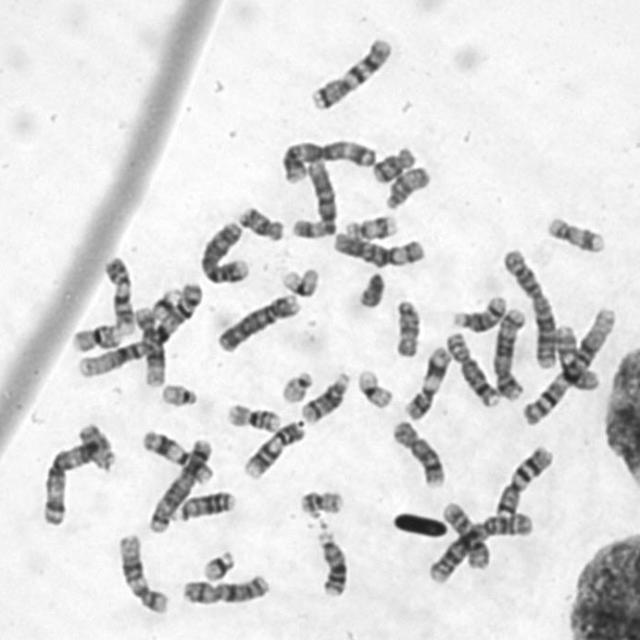A1: (516, 306, 620, 432), (77, 280, 205, 380)
A2: (428, 512, 533, 586), (503, 248, 557, 370)
A3: (40, 438, 99, 530), (280, 139, 378, 186)
B4: (213, 292, 302, 356), (197, 220, 253, 285)
B5: (147, 436, 213, 536), (493, 307, 529, 402)
C10: (441, 499, 492, 571), (553, 324, 602, 394)
C11: (141, 430, 213, 485), (403, 343, 450, 420)
C12: (117, 533, 171, 616), (130, 305, 166, 389)
C6: (291, 155, 338, 241), (331, 231, 428, 272)
C7: (306, 35, 396, 114), (494, 445, 554, 520)
C8: (444, 330, 501, 409), (388, 418, 447, 488)
C9: (240, 418, 306, 481), (103, 255, 136, 337)
D13: (316, 532, 348, 598), (178, 490, 238, 522)
D14: (296, 371, 351, 428), (450, 292, 509, 336)
D15: (382, 164, 432, 211), (393, 298, 422, 360)
E16: (223, 402, 284, 435), (68, 321, 120, 355)
E17: (545, 213, 612, 259), (344, 213, 399, 243)
E18: (371, 144, 418, 184), (236, 203, 284, 242)
F19: (356, 367, 396, 412), (280, 266, 323, 297)
F20: (75, 422, 118, 474), (298, 488, 352, 517)
G21: (199, 549, 239, 582), (148, 287, 182, 323)
G22: (281, 371, 315, 403), (159, 383, 200, 408)
X: (180, 575, 271, 606)
Y: (358, 274, 387, 307)
